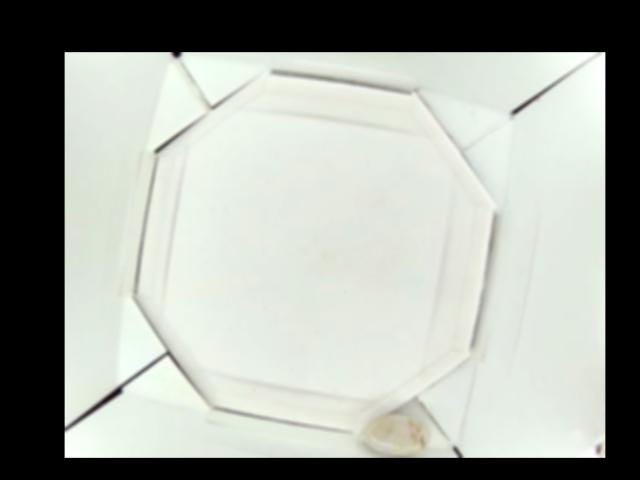Pebble: (358, 413, 430, 457)
